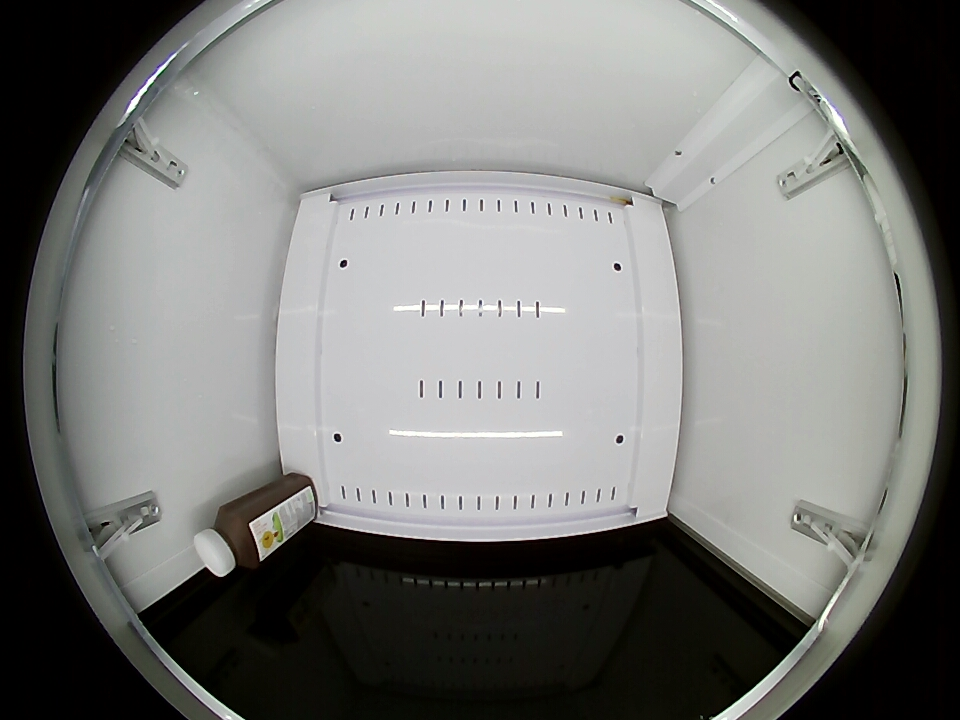youyanggudong: (193, 503, 265, 578)
